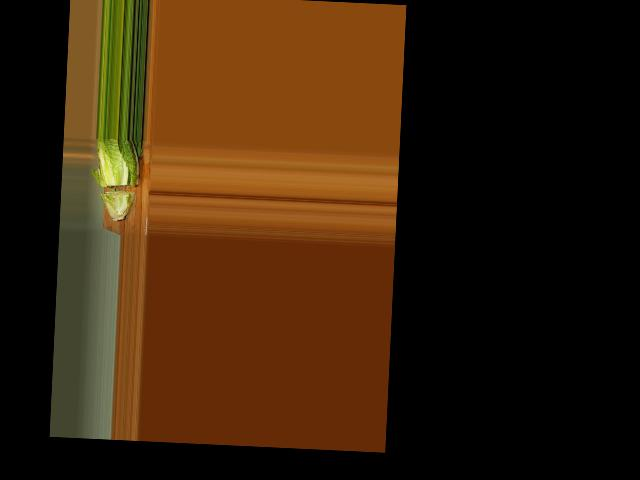lettuce: (91, 139, 145, 221)
